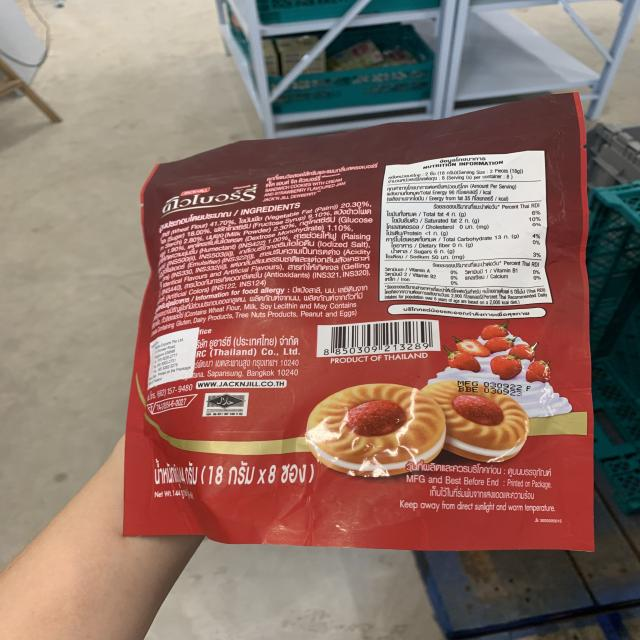object_name: (157, 162, 580, 546)
